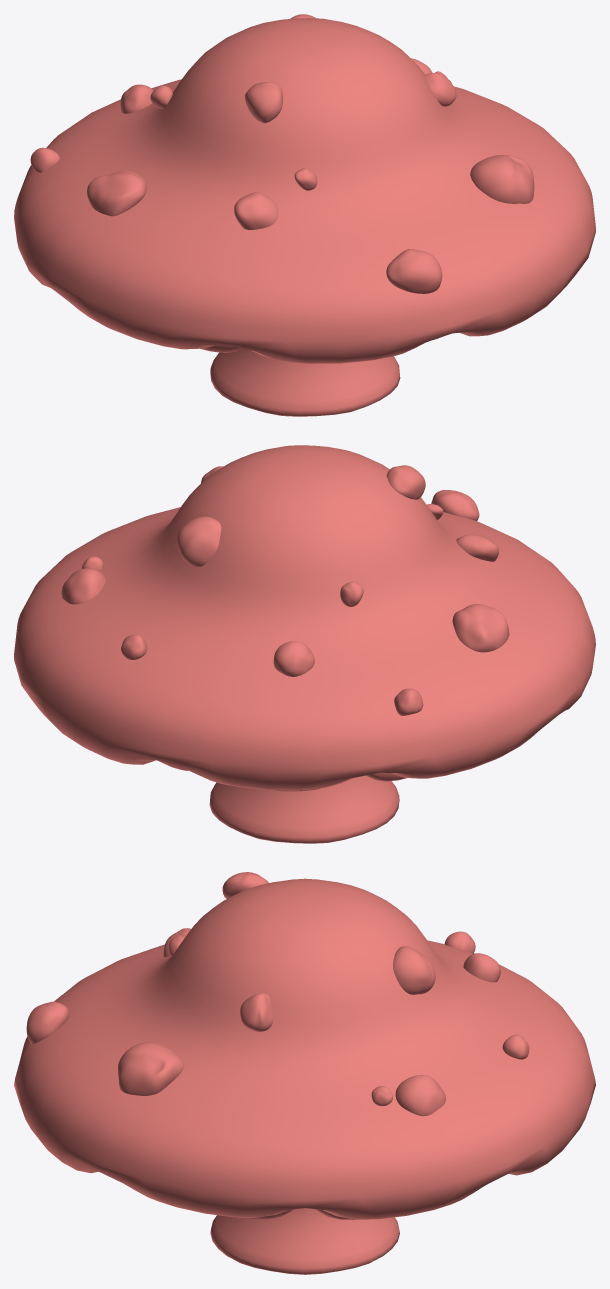
File: Pink mushroom.fbx
3 renders of one model, top to bottom at view 1: azimuth 30°, elevation 25°; view 2: azimuth 150°, elevation 25°; view 3: azimuth 270°, elevation 25°, orthographic.
Visible parts, largest first — view 1: mushroom.010; view 2: mushroom.010; view 3: mushroom.010.
Boxes of the visible parts, left/top/right/bottom form: mushroom.010: left=14, top=14, right=595, bottom=416; mushroom.010: left=14, top=445, right=595, bottom=843; mushroom.010: left=14, top=872, right=595, bottom=1274.
Bounding box in the file's own units: 141 × 92.33 × 141.
